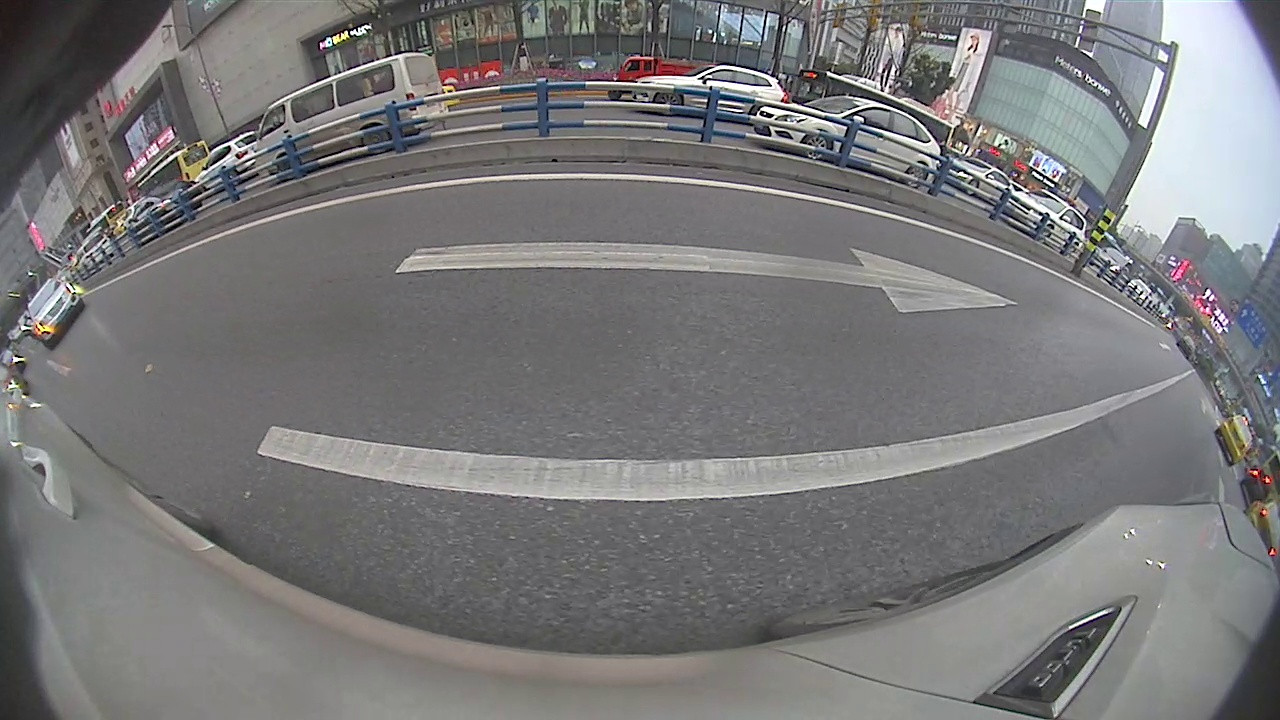car: (253, 48, 448, 187), (751, 91, 945, 191), (628, 59, 797, 127), (999, 186, 1090, 259), (25, 275, 88, 351)
front: (803, 129, 836, 163), (652, 88, 682, 117)
rear: (360, 126, 393, 157), (901, 162, 932, 189)
